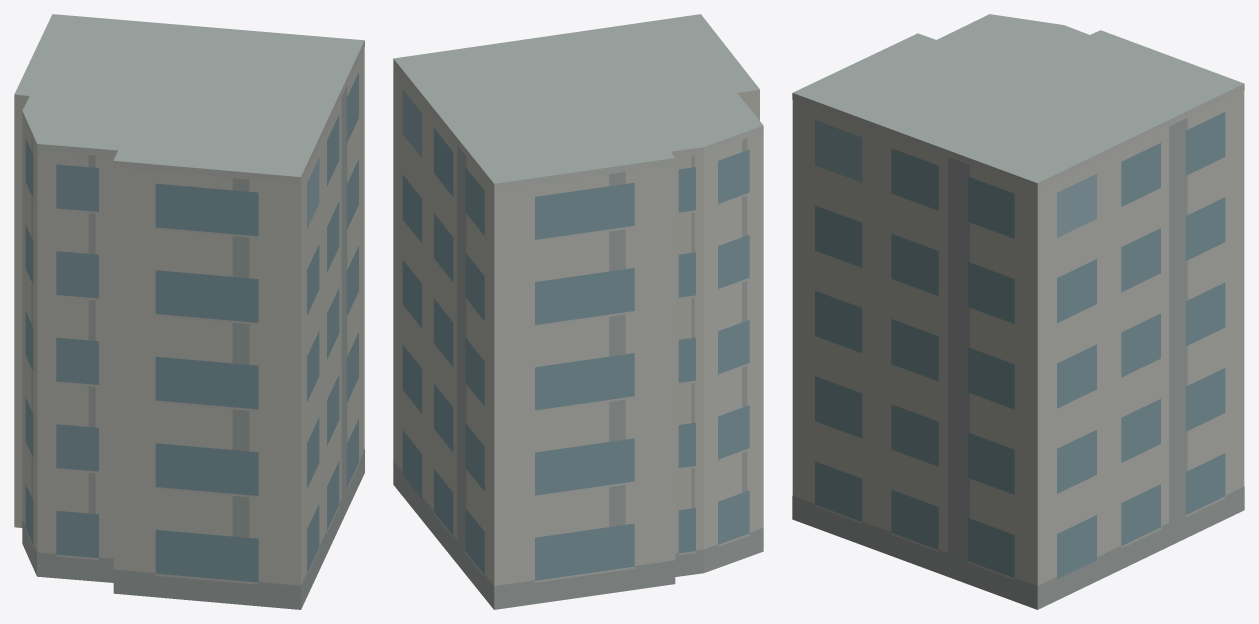
Rendered from survey-upis-32887447.glb.
3 renders of one model, left to right at view 1: azimuth 30°, elevation 25°; view 2: azimuth 150°, elevation 25°; view 3: azimuth 270°, elevation 25°, orthographic.
Visible parts, largest first — view 1: survey-upis-32887447.tmp; view 2: survey-upis-32887447.tmp; view 3: survey-upis-32887447.tmp.
Boxes of the visible parts, x1,y1,x2,y2 form: survey-upis-32887447.tmp: (14,14,364,609); survey-upis-32887447.tmp: (393,14,763,609); survey-upis-32887447.tmp: (792,14,1244,609).
Bounding box in the file's own units: 12.98 × 15.25 × 14.65.
